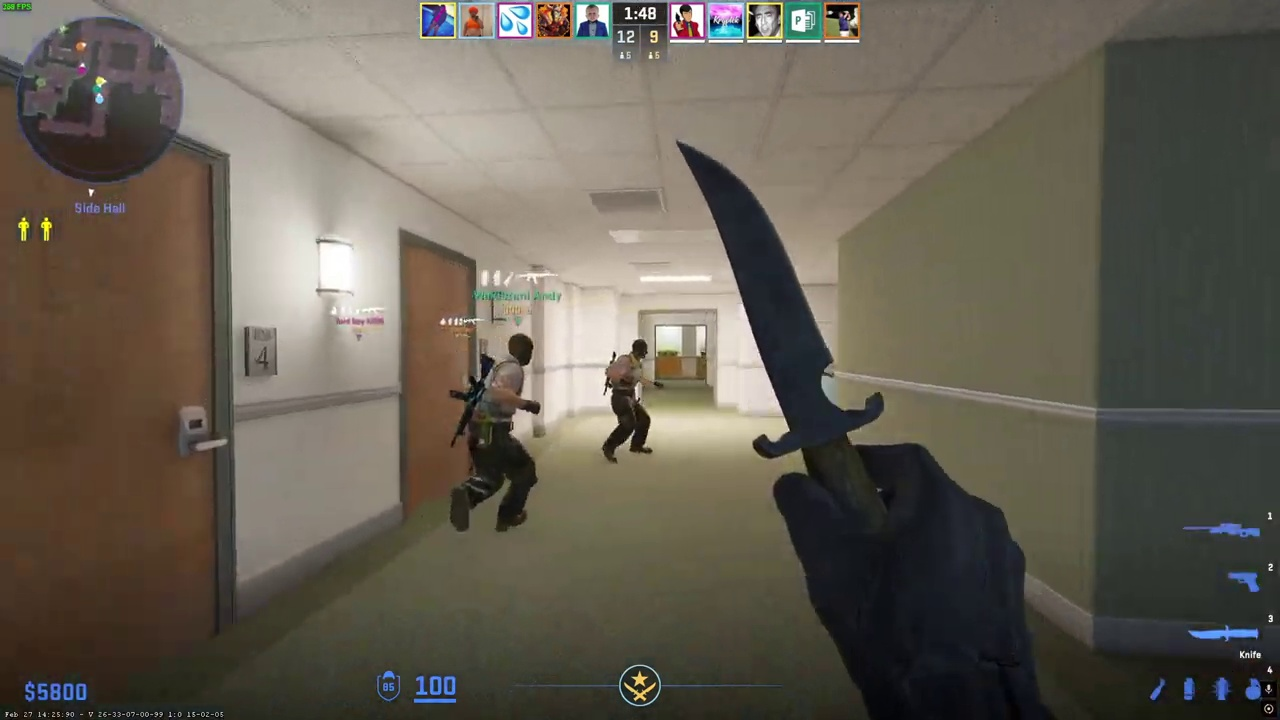Terrorist: (454, 332, 544, 537), (601, 338, 658, 463)
